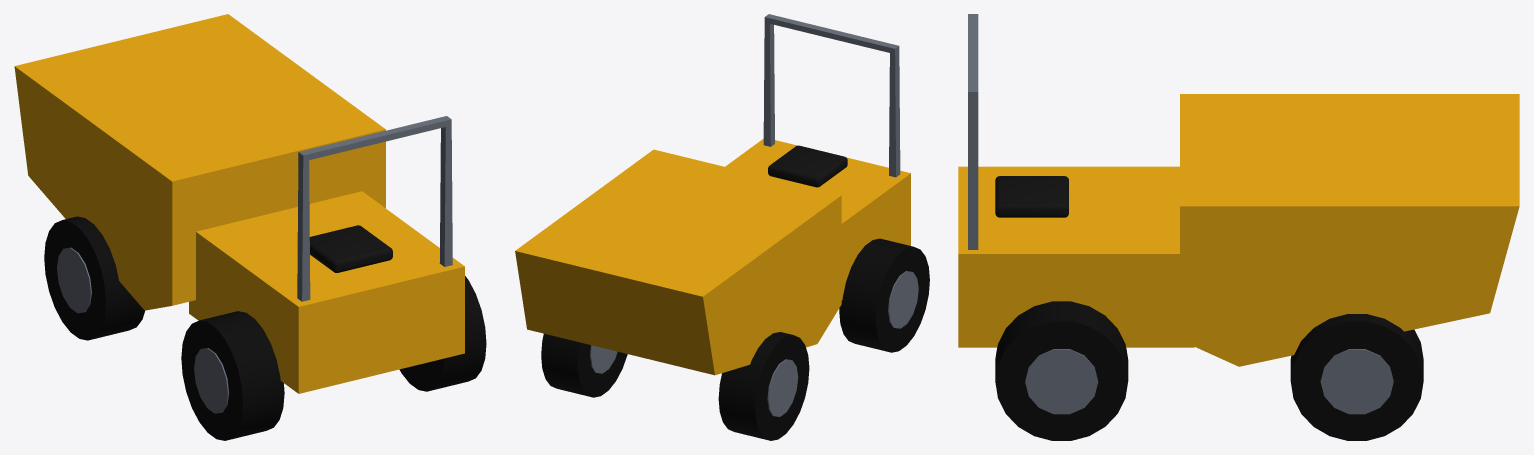
The model's file is plant.earthmoving.site_dumper.glb.
3 renders of one model, left to right at view 1: azimuth 30°, elevation 25°; view 2: azimuth 150°, elevation 25°; view 3: azimuth 270°, elevation 25°, orthographic. The views are drawn at different scales.
Parts seen in each view (by area): view 1: main__plant_yellow, main__rubber, main__steel_painted, main__leather_black; view 2: main__plant_yellow, main__rubber, main__steel_painted, main__leather_black; view 3: main__plant_yellow, main__rubber, main__steel_painted, main__leather_black.
Boxes of the visible parts, x1,y1,x2,y2 form: main__plant_yellow: (14, 14, 464, 393); main__rubber: (44, 216, 486, 440); main__steel_painted: (57, 116, 452, 413); main__leather_black: (309, 225, 392, 272); main__plant_yellow: (515, 139, 910, 375); main__rubber: (541, 238, 929, 440); main__steel_painted: (590, 14, 918, 416); main__leather_black: (768, 145, 847, 187); main__plant_yellow: (958, 94, 1519, 366); main__rubber: (995, 301, 1423, 440); main__steel_painted: (968, 14, 1393, 414); main__leather_black: (995, 176, 1068, 217).
Size of the model in its own units: 2.07 by 2.42 by 3.8.
